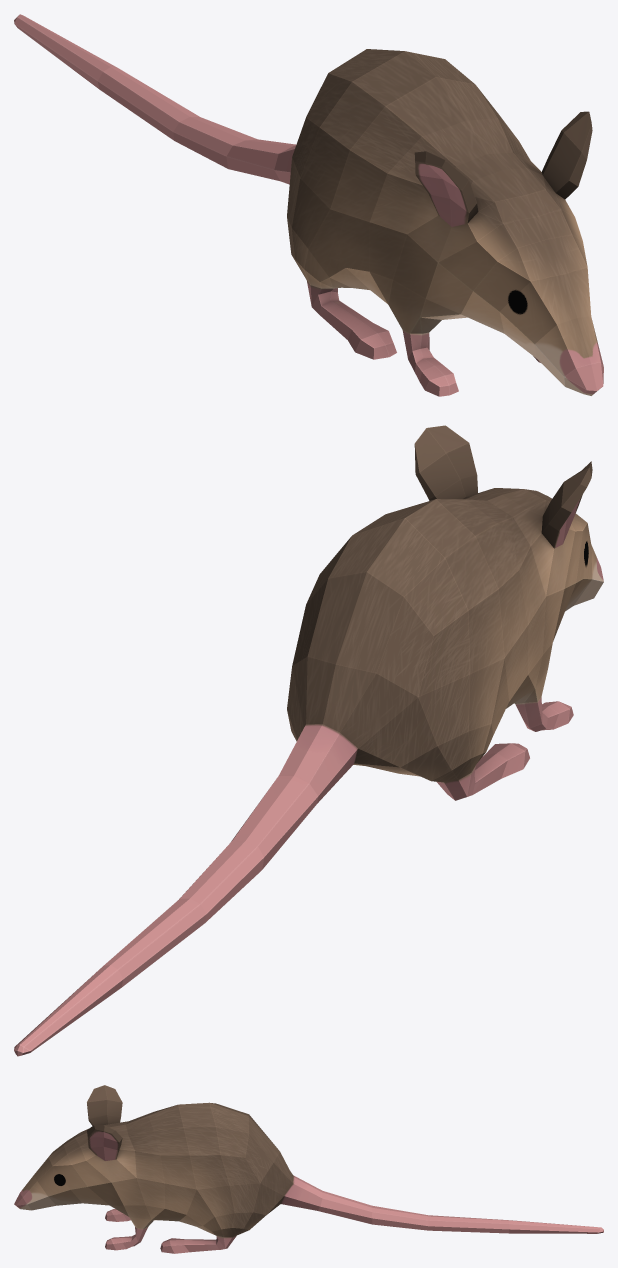
The model's file is SpinyMouse.glb.
3 views of the same model, one above another, from view 1: azimuth 30°, elevation 25°; view 2: azimuth 150°, elevation 25°; view 3: azimuth 270°, elevation 25° (orthographic). The views are drawn at different scales.
Visible parts, largest first — view 1: SpinyMouse_Mesh; view 2: SpinyMouse_Mesh; view 3: SpinyMouse_Mesh.
Part boxes in pixels (<box>): SpinyMouse_Mesh: <box>14,14,603,396</box>; SpinyMouse_Mesh: <box>14,425,603,1056</box>; SpinyMouse_Mesh: <box>14,1085,603,1253</box>.
Size of the model in its own units: 0.7584 by 1.01 by 4.16.
1 material, 1 textured.
